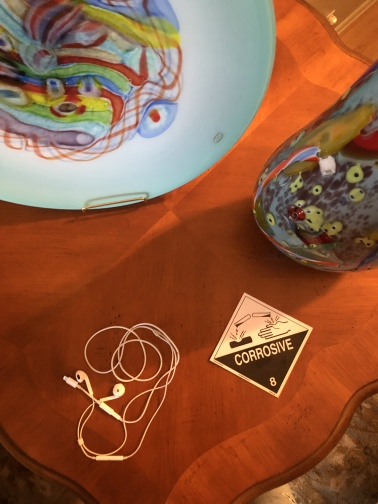Corrosive: (210, 294, 314, 394)
